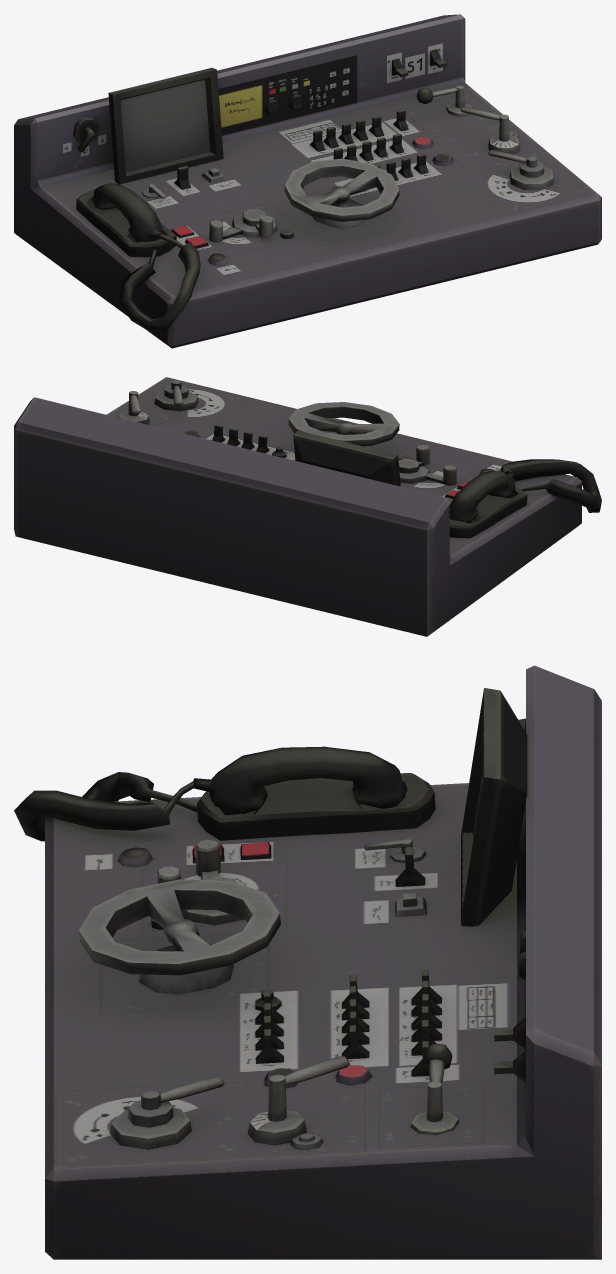
File: SM_Old_Simulator.FBX
3 views of the same model, one above another, from view 1: azimuth 30°, elevation 25°; view 2: azimuth 150°, elevation 25°; view 3: azimuth 270°, elevation 25° (orthographic). The views are drawn at different scales.
Parts seen in each view (by area): view 1: SM_Old_Simulator; view 2: SM_Old_Simulator; view 3: SM_Old_Simulator.
Boxes of the visible parts, box(x1,y1,x2,y2) form: SM_Old_Simulator: box(14, 14, 601, 348); SM_Old_Simulator: box(14, 377, 601, 636); SM_Old_Simulator: box(14, 665, 601, 1259).
Bounding box in the file's own units: 107 × 66.7 × 32.65.
